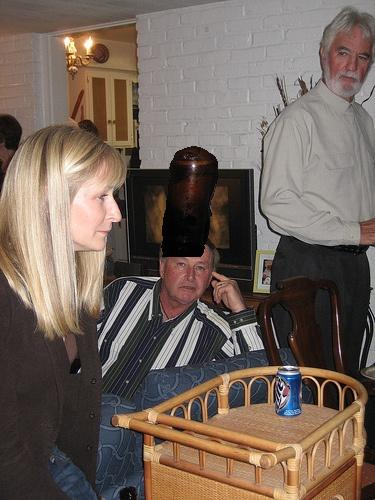tampered: (162, 147, 218, 257)
